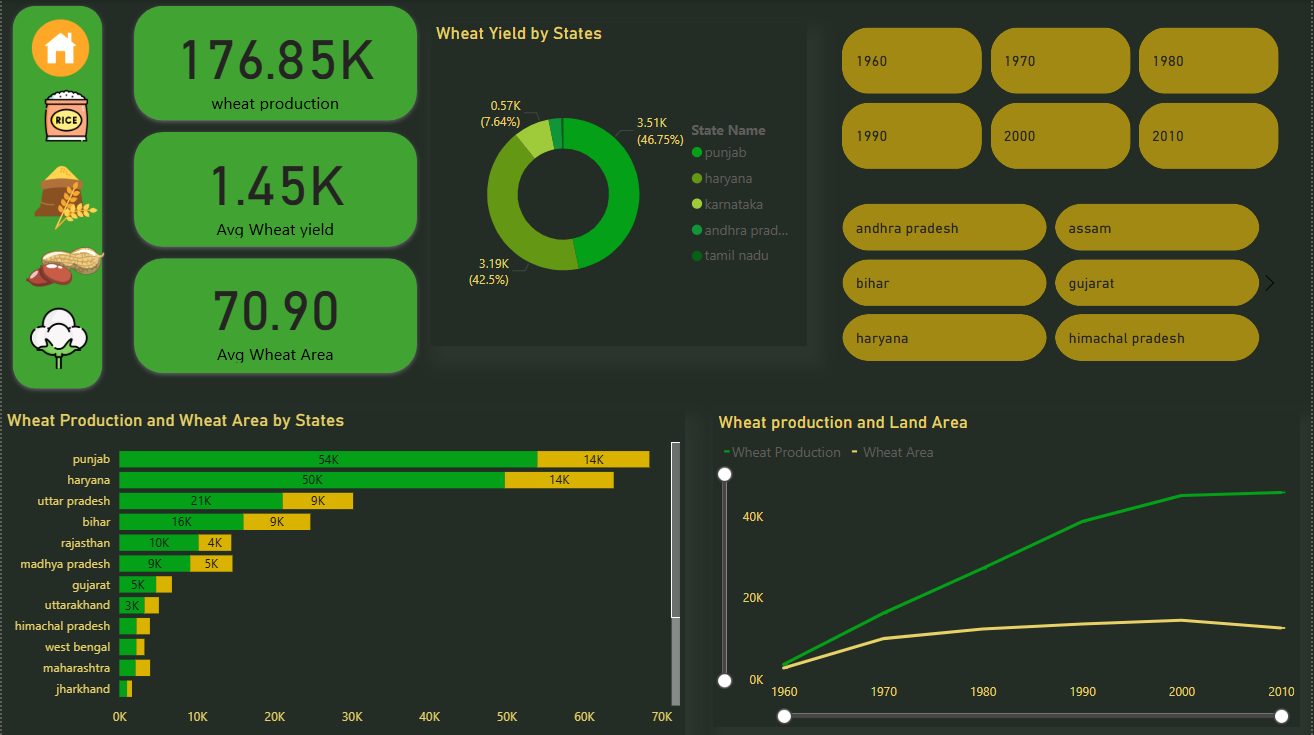

Layout of this report page (visuals, bound fields, positions):
{"tool":"powerbi","page":{"name":"Wheat","canvas":[1280,720],"ordinal":2},"visuals":[{"type":"shape","box":[123.8,0,288.2,123.5],"z":0},{"type":"card","title":"RIce Production","fields":{"Values":["Wheatmeasure.total_wheatproduction"]},"box":[147.1,11,241.5,102.9],"z":1000},{"type":"advancedSlicerVisual","fields":{"Values":["rain-agriculture.Year group (bins)"]},"box":[816.5,22,439.1,149.6],"z":2000},{"type":"advancedSlicerVisual","fields":{"Values":["rain-agriculture.State Name"]},"box":[797.3,194.9,458.3,164.7],"z":3000},{"type":"shape","box":[123.8,123.5,288.2,123.5],"z":4000},{"type":"shape","box":[123.8,247,288.2,123.5],"z":5000},{"type":"lineChart","title":"Wheat production and Land Area ","fields":{"Category":["rain-agriculture.Year group (bins)"],"Y":["Sum(rain-agriculture.WHEAT PRODUCTION (1000 tons))","Sum(rain-agriculture.WHEAT AREA (1000 ha))"]},"box":[695.7,402.1,573.6,308.7],"z":6000},{"type":"card","fields":{"Values":["Wheatmeasure.Avg_Wheatyield"]},"box":[123.8,133.1,288.2,104.3],"z":7000},{"type":"shape","box":[5.5,0,98.8,385.6],"z":8000},{"type":"donutChart","title":" Wheat Yield by States","fields":{"Category":["rain-agriculture.State Name"],"Y":["Wheatmeasure.Avg_Wheatyield"]},"box":[419.9,22,367.8,317],"z":9000},{"type":"image","box":[32.9,83.7,60.4,60.4],"z":10000},{"type":"image","box":[20.6,150.9,83.7,85.1],"z":11000},{"type":"image","box":[15.1,214.1,94.7,94.7],"z":12000},{"type":"image","box":[20.6,292.3,70,78.2],"z":13000},{"type":"card","fields":{"Values":["Wheatmeasure.Avg WheatArea"]},"box":[123.5,255.2,288.2,104.3],"z":14000},{"type":"barChart","title":" Wheat Production and Wheat Area by States","fields":{"Category":["rain-agriculture.State Name"],"Y":["Sum(rain-agriculture.WHEAT PRODUCTION (1000 tons))","Sum(rain-agriculture.WHEAT AREA (1000 ha))"]},"box":[0,401.6,668.3,318.4],"z":15000},{"type":"image","box":[24.7,11,65.9,71.4],"z":16000}]}

Visuals, with their boxes in screenshot pixels (x1, y1, x2, y2), scaled from the page's 1280x720 canvas onto the 1314x735 screenshot:
shape: [127,0,423,126]
"RIce Production" card: [151,11,399,116]
advancedSlicerVisual - rain-agriculture.Year group (bins): [838,22,1289,175]
advancedSlicerVisual - rain-agriculture.State Name: [818,199,1289,367]
shape: [127,126,423,252]
shape: [127,252,423,378]
"Wheat production and Land Area " lineChart: [714,410,1303,726]
card - Wheatmeasure.Avg_Wheatyield: [127,136,423,242]
shape: [6,0,107,394]
" Wheat Yield by States" donutChart: [431,22,809,346]
image: [34,85,96,147]
image: [21,154,107,241]
image: [16,219,113,315]
image: [21,298,93,378]
card - Wheatmeasure.Avg WheatArea: [127,261,423,367]
" Wheat Production and Wheat Area by States" barChart: [0,410,686,734]
image: [25,11,93,84]
